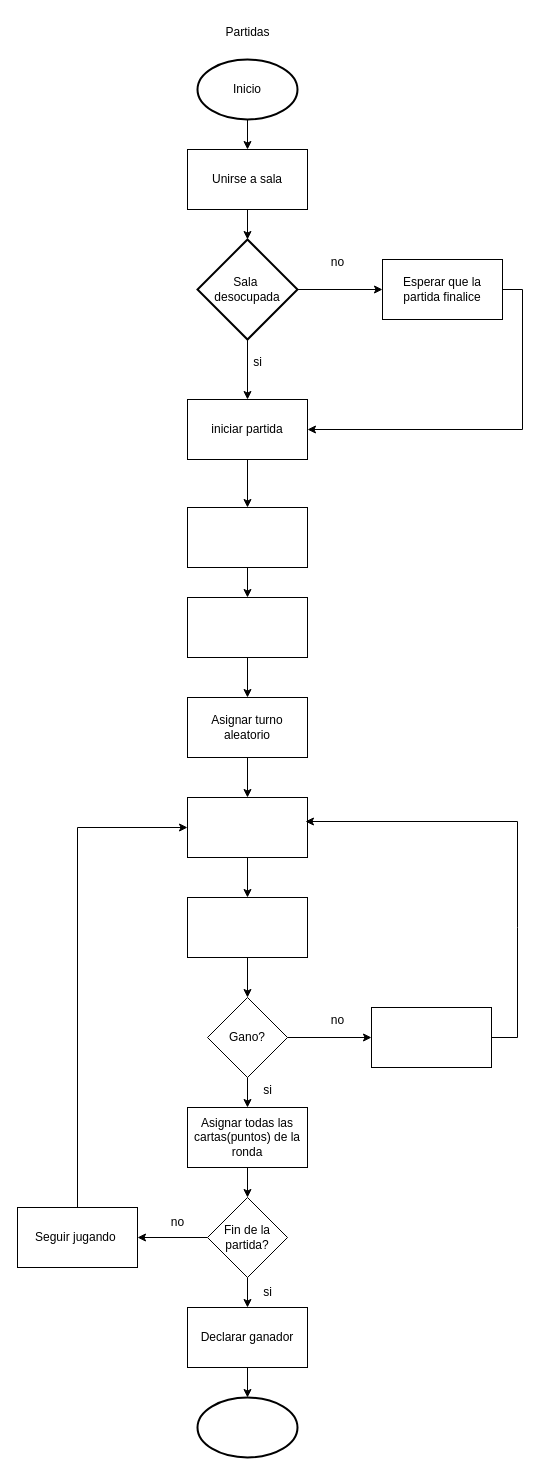
Some shapes in this 548 by 1475 pixel diagram are drawn without their labels. Here are the shapes that lost their labels. From the top down, the centre of each, then its label:
At point 247,537: "Registrar jugadores".
At point 247,627: "Reparto de 8 cartas únicas por jugador".
At point 247,827: "Mostrar cartas y atributos".
At point 247,927: "Comparar atributos".
At point 431,1037: "Continuar jugando".
At point 247,1427: "Fin".
